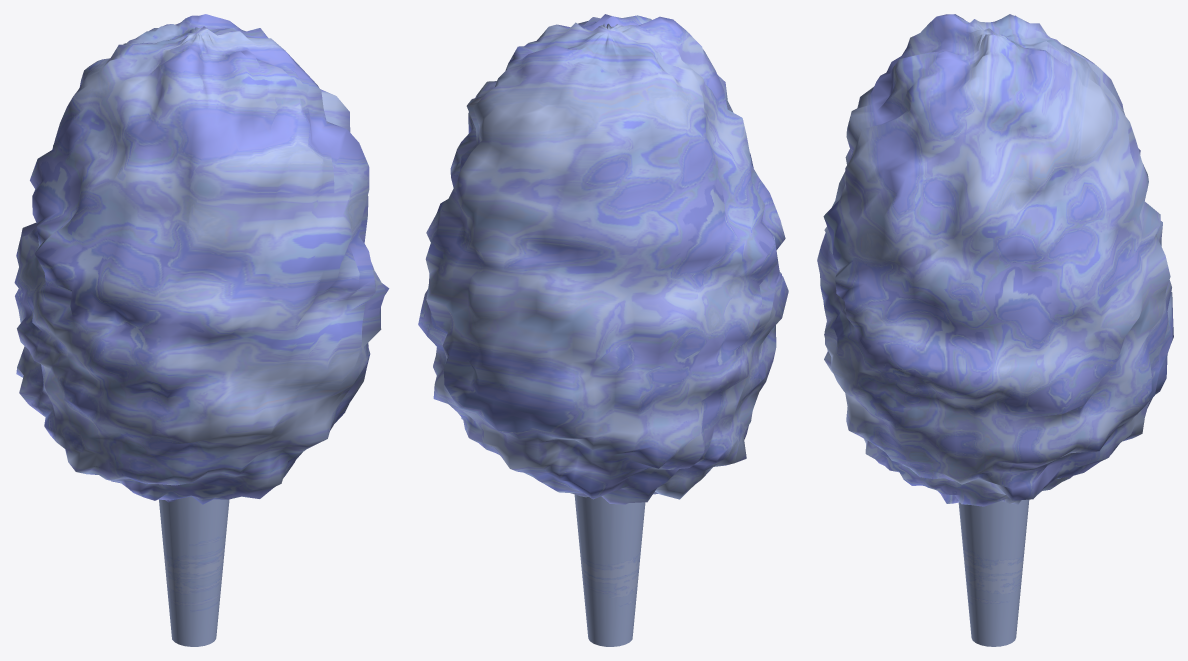
The model's file is ArbolM1.fbx.
The picture shows the model from 3 angles, left to right: view 1: azimuth 30°, elevation 25°; view 2: azimuth 150°, elevation 25°; view 3: azimuth 270°, elevation 25°; orthographic projection.
Visible parts, largest first — view 1: boom_006; view 2: boom_006; view 3: boom_006.
Boxes of the visible parts, x1,y1,x2,y2 form: boom_006: (14,14,389,646); boom_006: (418,14,788,646); boom_006: (817,14,1173,646).
Size of the model in its own units: 50.19 by 89.11 by 47.33.
1 material, 1 textured.
